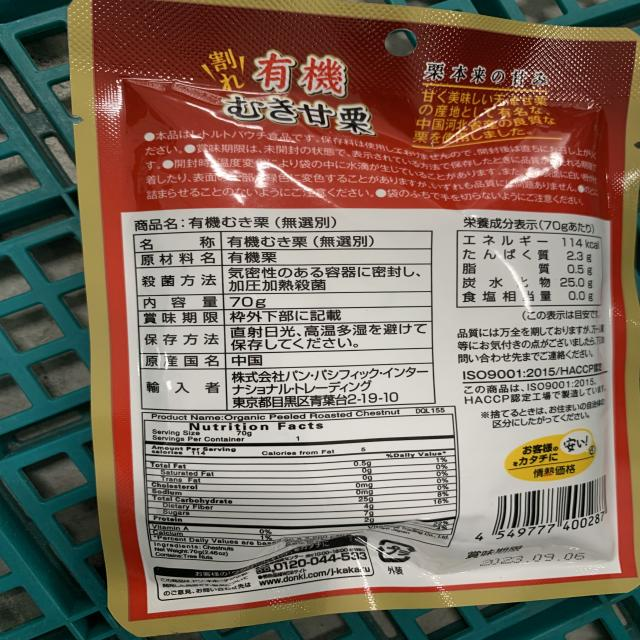object_name: (72, 3, 637, 598)
